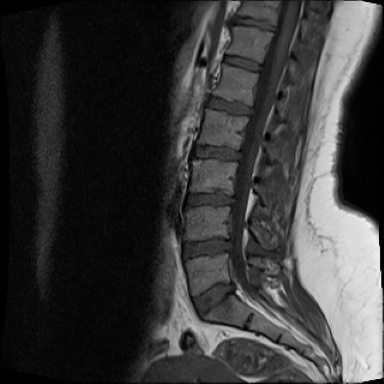Degenerative Disc Disease (DDD): (180, 182, 241, 209)
Lumbar Disc Bulge (LDB): (185, 270, 240, 323), (177, 225, 236, 265), (183, 133, 249, 166), (201, 86, 258, 120)
Normal IVD: (214, 48, 267, 74)
Spinal Stenosis (SS): (216, 229, 241, 262), (226, 143, 252, 169), (238, 101, 264, 126), (263, 15, 291, 37), (226, 276, 238, 300)
Thoracic Disc Bulge (TDB): (223, 7, 285, 35)
